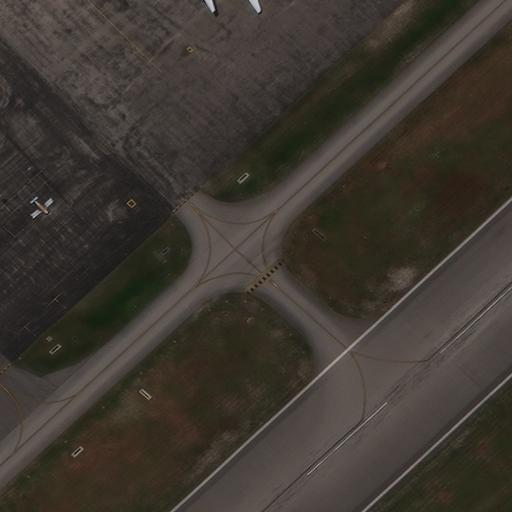Small Civil Transport: (33, 198, 54, 217)
